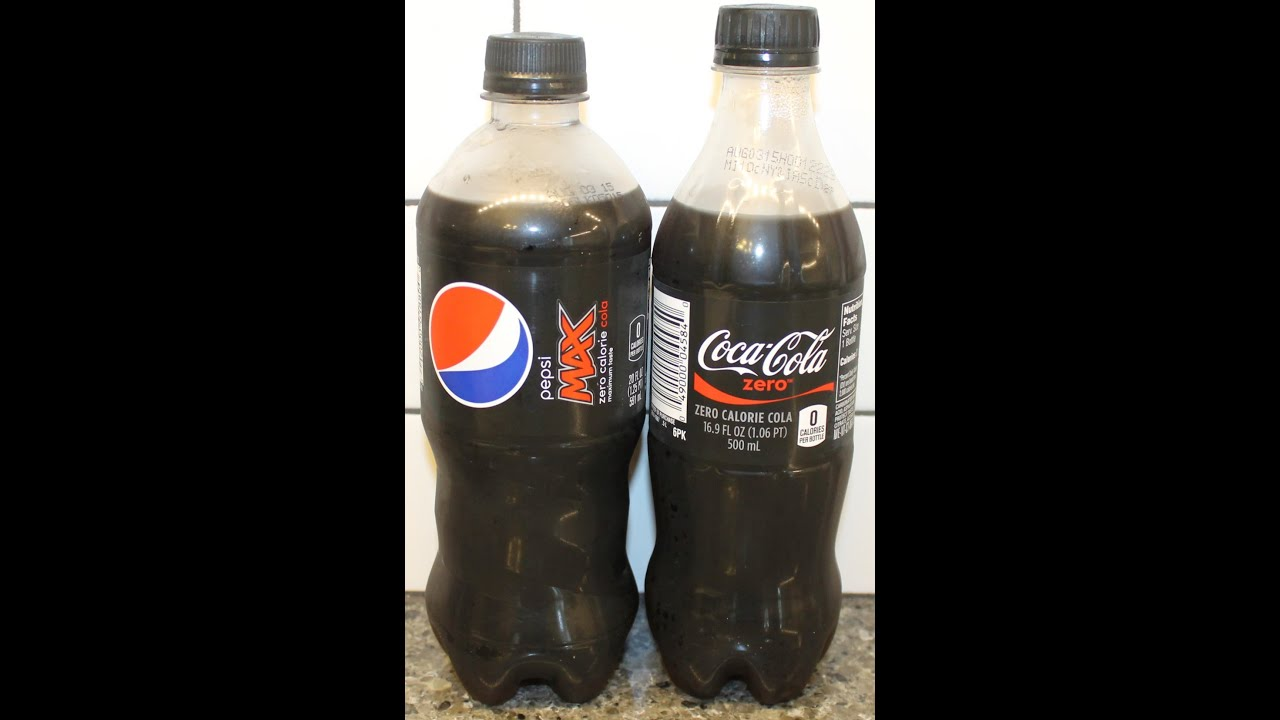pepsi: (426, 275, 532, 408), (426, 279, 532, 408)
